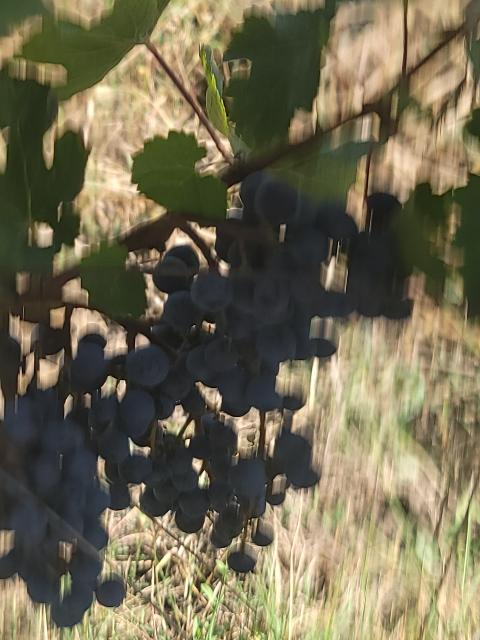grapes: (1, 334, 268, 626), (154, 181, 352, 415), (265, 430, 318, 488)
